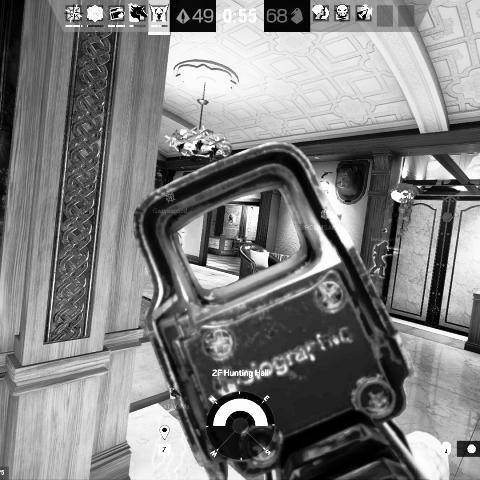Friend_label: (299, 207, 353, 232), (151, 190, 190, 215), (370, 226, 402, 242)
